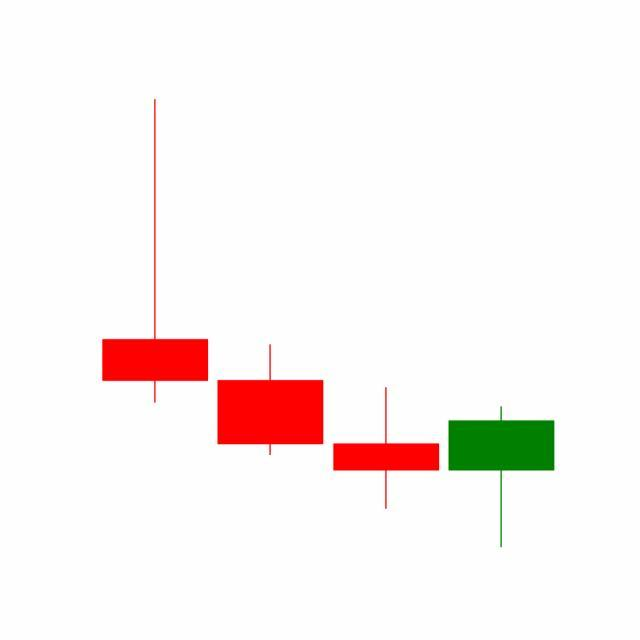Hammer: (444, 406, 560, 550)
